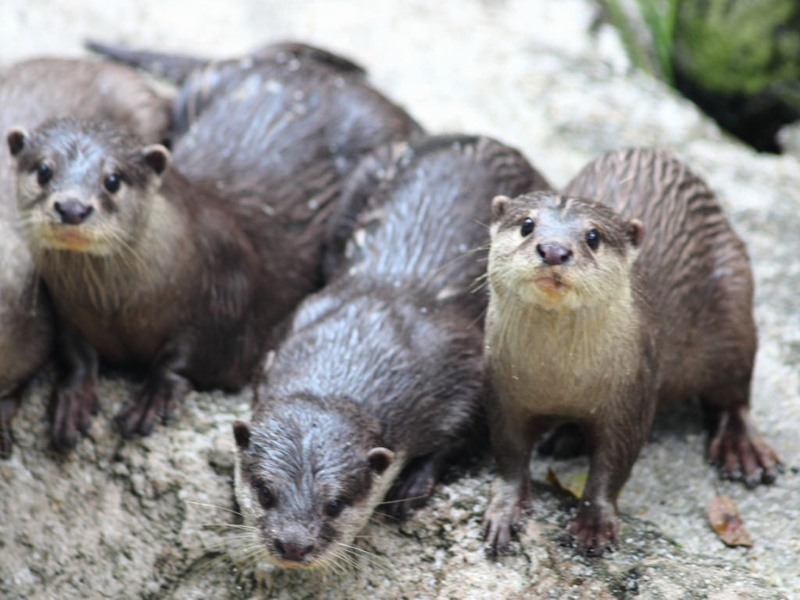minkish: (4, 23, 443, 439), (233, 125, 560, 585), (484, 145, 773, 563)
